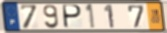1: (103, 4, 116, 30), (85, 3, 96, 30)
7: (127, 4, 146, 29), (20, 4, 38, 30)
9: (43, 4, 60, 30)
P: (62, 4, 83, 30)
